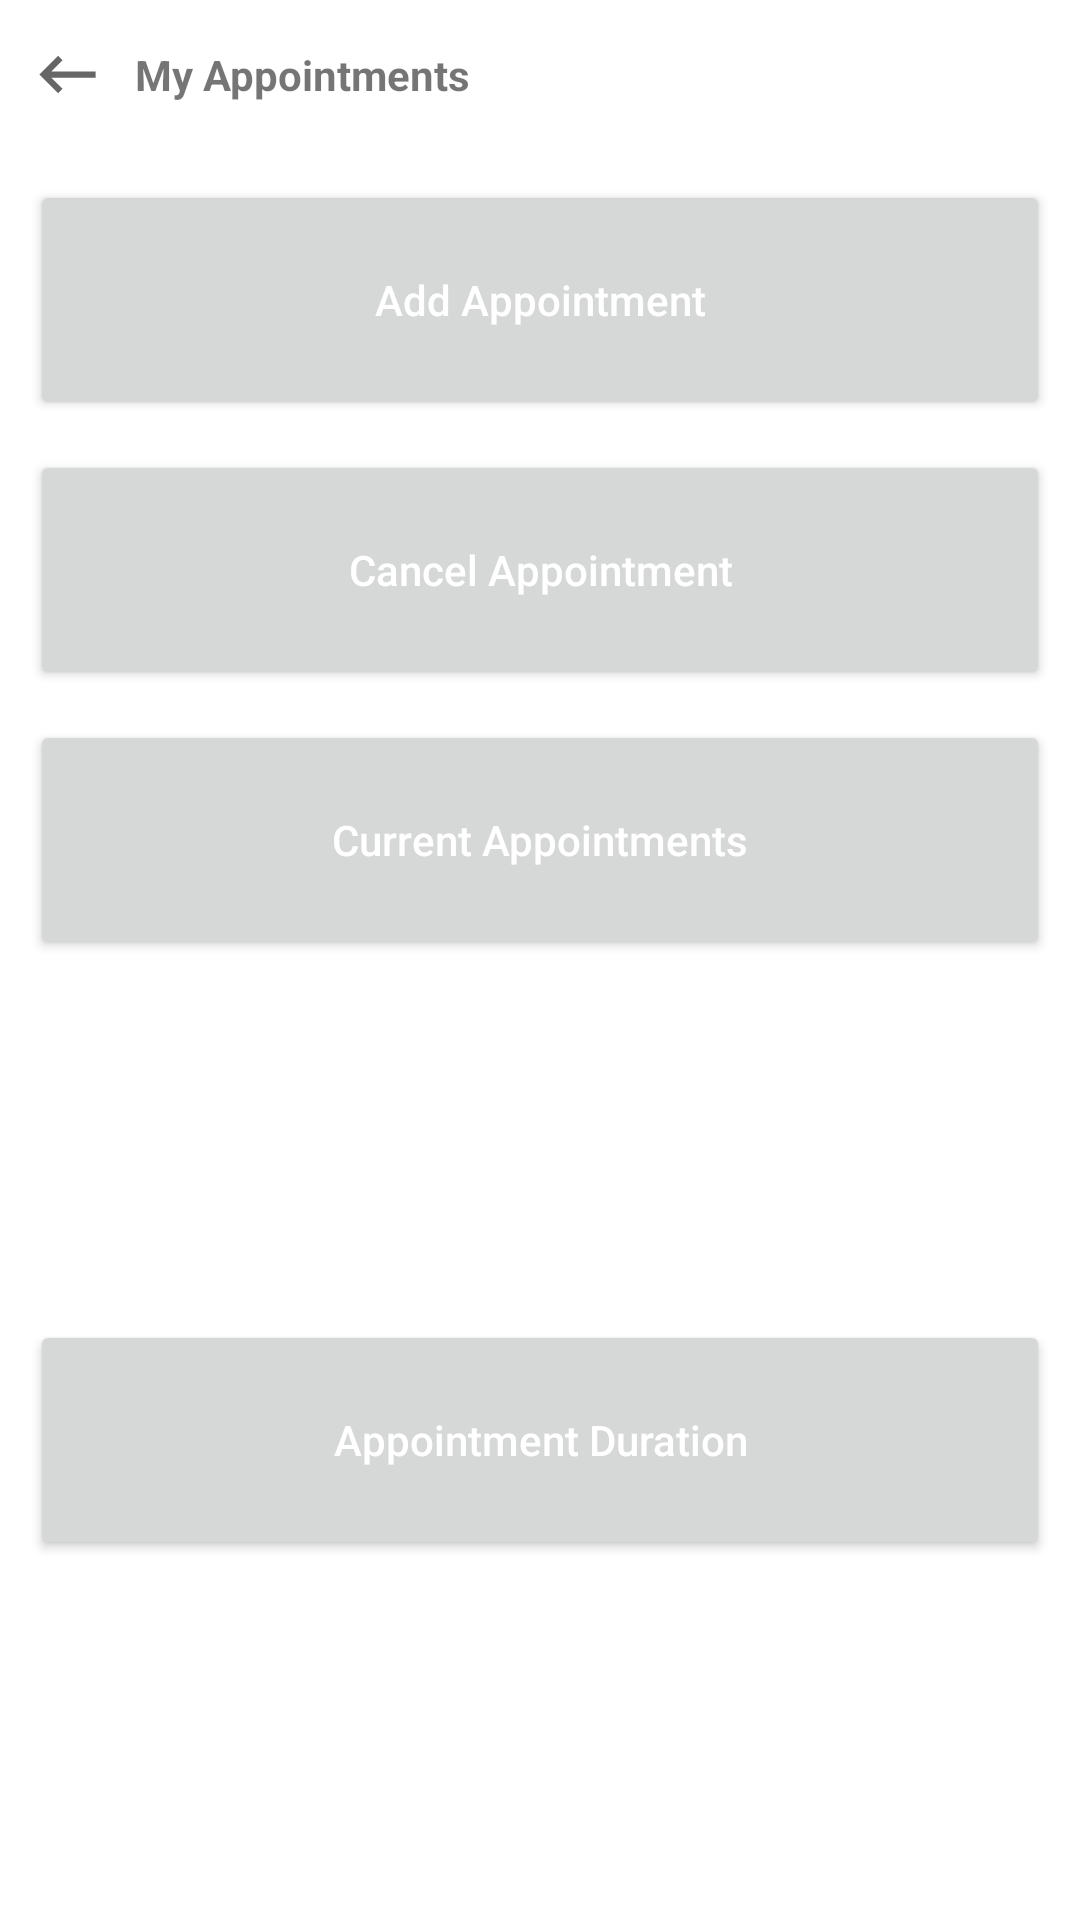

Icon bounding boxes for this 1080 × 1920 phone screenshot, format [x1, y1, x2, y2]:
back: [39, 56, 96, 93]
